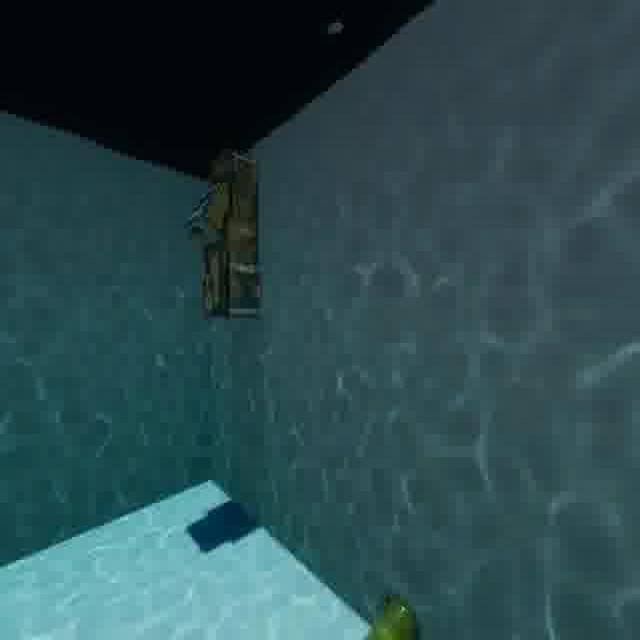Control Panel: (174, 142, 278, 337)
Pipe: (349, 591, 445, 640)
